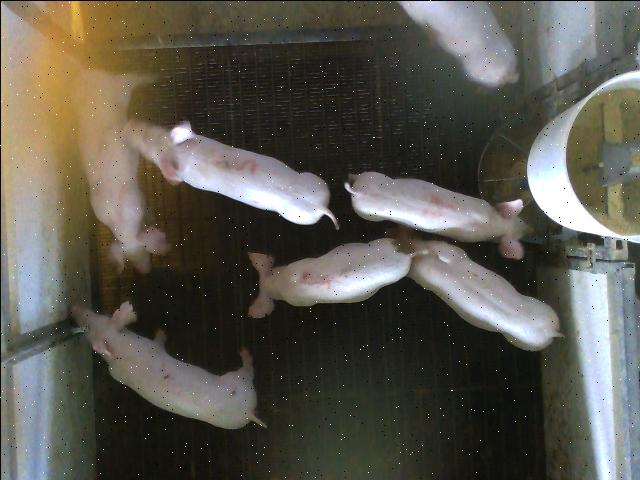pig-3: (124, 119, 338, 227)
pig-4: (344, 172, 526, 259)
pig-5: (248, 238, 426, 318)
